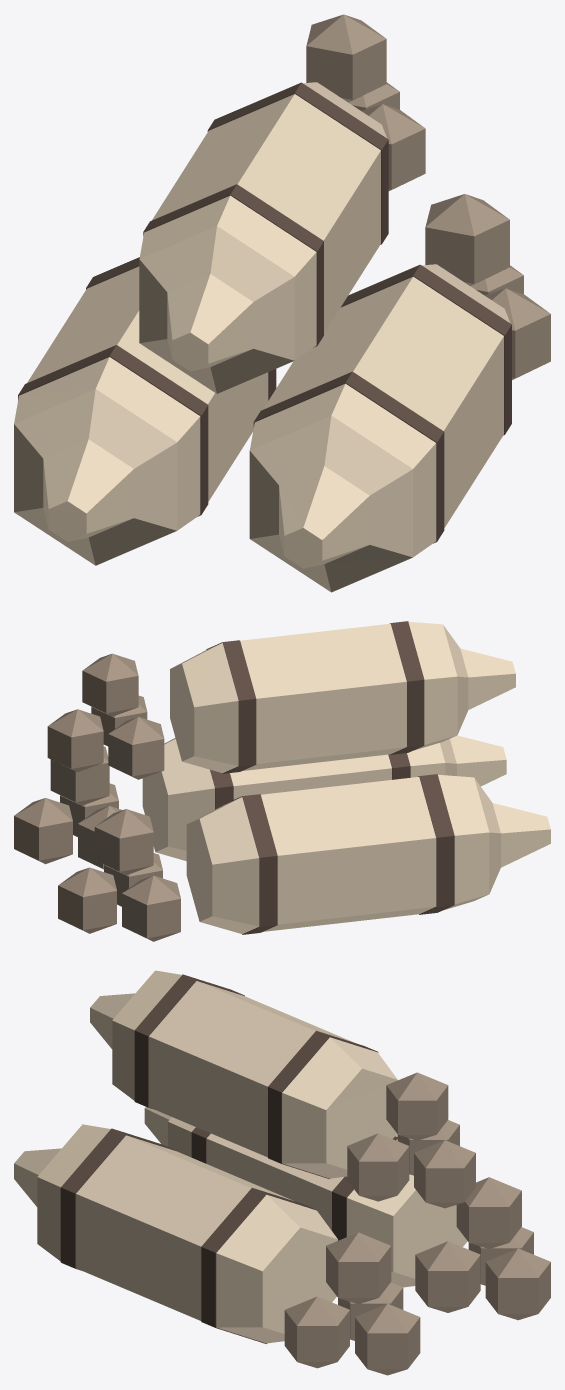
File: ce_ammo2_grape_grape_b.obj
3 views of the same model, one above another, from view 1: azimuth 30°, elevation 25°; view 2: azimuth 150°, elevation 25°; view 3: azimuth 270°, elevation 25° (orthographic). The views are drawn at different scales.
Parts seen in each view (by area): view 1: ce_ammo2_grape_grape_b_15, ce_ammo2_grape_grape_b_26, ce_ammo2_grape_grape_b_1, ce_ammo2_grape_grape_b_12, ce_ammo2_grape_grape_b_23, ce_ammo2_grape_grape_b_4, ce_ammo2_grape_grape_b_2, ce_ammo2_grape_grape_b_13, ce_ammo2_grape_grape_b_24, ce_ammo2_grape_grape_b_0, ce_ammo2_grape_grape_b_11, ce_ammo2_grape_grape_b_22 (+14 smaller); view 2: ce_ammo2_grape_grape_b_4, ce_ammo2_grape_grape_b_26, ce_ammo2_grape_grape_b_6, ce_ammo2_grape_grape_b_28, ce_ammo2_grape_grape_b_17, ce_ammo2_grape_grape_b_2, ce_ammo2_grape_grape_b_15, ce_ammo2_grape_grape_b_24, ce_ammo2_grape_grape_b_10, ce_ammo2_grape_grape_b_7, ce_ammo2_grape_grape_b_9, ce_ammo2_grape_grape_b_20 (+21 smaller); view 3: ce_ammo2_grape_grape_b_15, ce_ammo2_grape_grape_b_26, ce_ammo2_grape_grape_b_17, ce_ammo2_grape_grape_b_28, ce_ammo2_grape_grape_b_6, ce_ammo2_grape_grape_b_4, ce_ammo2_grape_grape_b_20, ce_ammo2_grape_grape_b_19, ce_ammo2_grape_grape_b_8, ce_ammo2_grape_grape_b_9, ce_ammo2_grape_grape_b_21, ce_ammo2_grape_grape_b_10 (+18 smaller).
Boxes of the visible parts, left/top/right/bottom form: ce_ammo2_grape_grape_b_15: left=263, top=276, right=503, bottom=527; ce_ammo2_grape_grape_b_26: left=152, top=94, right=380, bottom=332; ce_ammo2_grape_grape_b_1: left=14, top=389, right=177, bottom=565; ce_ammo2_grape_grape_b_12: left=249, top=415, right=412, bottom=592; ce_ammo2_grape_grape_b_23: left=139, top=226, right=294, bottom=393; ce_ammo2_grape_grape_b_4: left=27, top=266, right=268, bottom=501; ce_ammo2_grape_grape_b_2: left=14, top=357, right=200, bottom=530; ce_ammo2_grape_grape_b_13: left=250, top=383, right=436, bottom=557; ce_ammo2_grape_grape_b_24: left=139, top=195, right=316, bottom=360; ce_ammo2_grape_grape_b_0: left=43, top=439, right=133, bottom=541; ce_ammo2_grape_grape_b_11: left=279, top=466, right=369, bottom=568; ce_ammo2_grape_grape_b_22: left=167, top=274, right=253, bottom=371; ce_ammo2_grape_grape_b_4: left=261, top=777, right=436, bottom=931; ce_ammo2_grape_grape_b_26: left=240, top=623, right=406, bottom=770; ce_ammo2_grape_grape_b_6: left=186, top=797, right=259, bottom=934; ce_ammo2_grape_grape_b_28: left=170, top=643, right=238, bottom=773; ce_ammo2_grape_grape_b_17: left=142, top=738, right=214, bottom=861; ce_ammo2_grape_grape_b_2: left=438, top=774, right=489, bottom=909; ce_ammo2_grape_grape_b_15: left=230, top=754, right=391, bottom=799; ce_ammo2_grape_grape_b_24: left=408, top=621, right=457, bottom=750; ce_ammo2_grape_grape_b_10: left=94, top=809, right=153, bottom=875; ce_ammo2_grape_grape_b_7: left=122, top=875, right=180, bottom=941; ce_ammo2_grape_grape_b_9: left=58, top=867, right=116, bottom=933; ce_ammo2_grape_grape_b_20: left=14, top=798, right=72, bottom=864; ce_ammo2_grape_grape_b_15: left=76, top=1135, right=293, bottom=1320; ce_ammo2_grape_grape_b_26: left=148, top=981, right=355, bottom=1157; ce_ammo2_grape_grape_b_17: left=216, top=1194, right=337, bottom=1343; ce_ammo2_grape_grape_b_28: left=282, top=1037, right=397, bottom=1178; ce_ammo2_grape_grape_b_6: left=347, top=1139, right=467, bottom=1287; ce_ammo2_grape_grape_b_4: left=206, top=1133, right=397, bottom=1230; ce_ammo2_grape_grape_b_20: left=355, top=1303, right=420, bottom=1375; ce_ammo2_grape_grape_b_19: left=284, top=1296, right=349, bottom=1368; ce_ammo2_grape_grape_b_8: left=415, top=1241, right=480, bottom=1312; ce_ammo2_grape_grape_b_9: left=485, top=1248, right=550, bottom=1320; ce_ammo2_grape_grape_b_21: left=326, top=1232, right=391, bottom=1304; ce_ammo2_grape_grape_b_10: left=456, top=1177, right=521, bottom=1248.
Size of the model in its own units: 0.7772 by 0.4518 by 0.7844.
